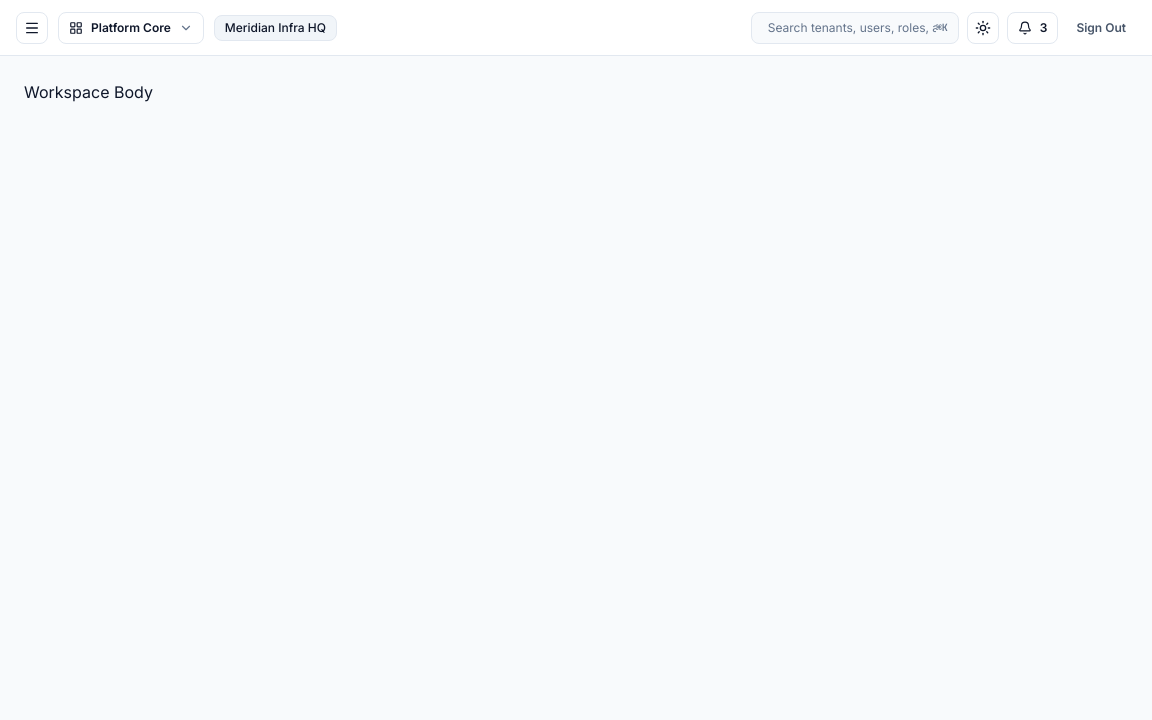
US-01.3 Adaptive Left Navigation & Icon-Only Theme Switcher › renders icon-only theme button and switches to System mode syncing OS dark
Click the button named "change appearance theme".
click(983, 28)  # box [967,12,999,44]
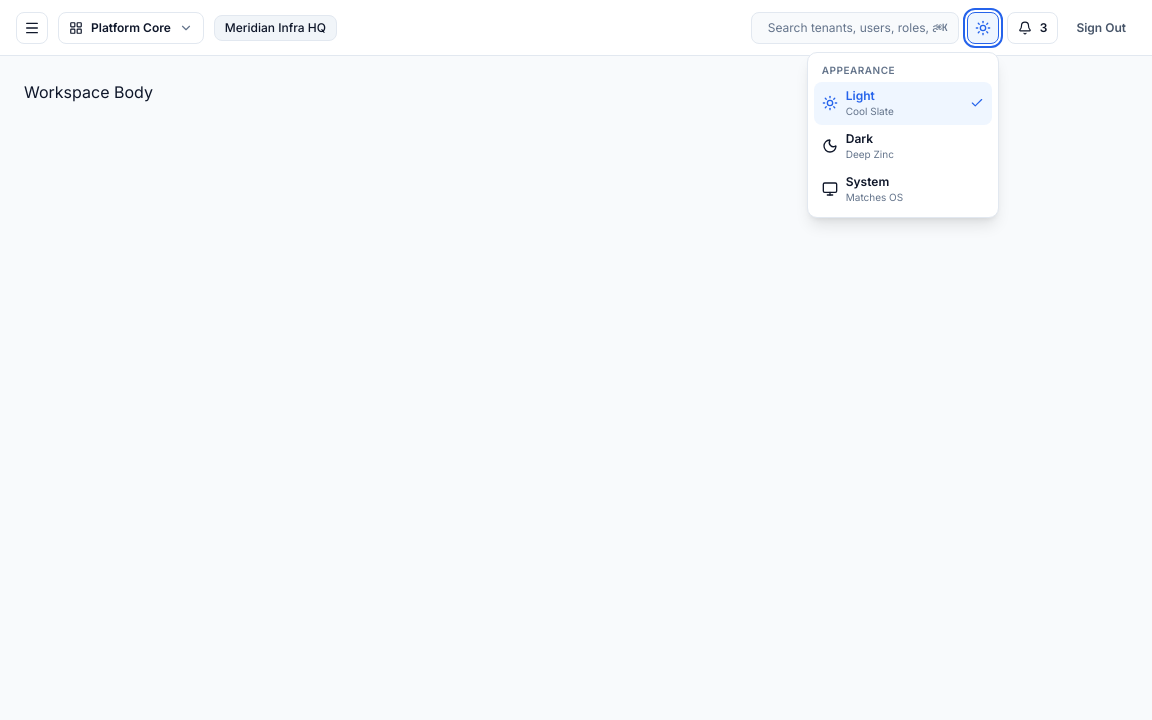
Click the menu item "System Matches OS".
click(903, 189)  # box [814,168,992,210]
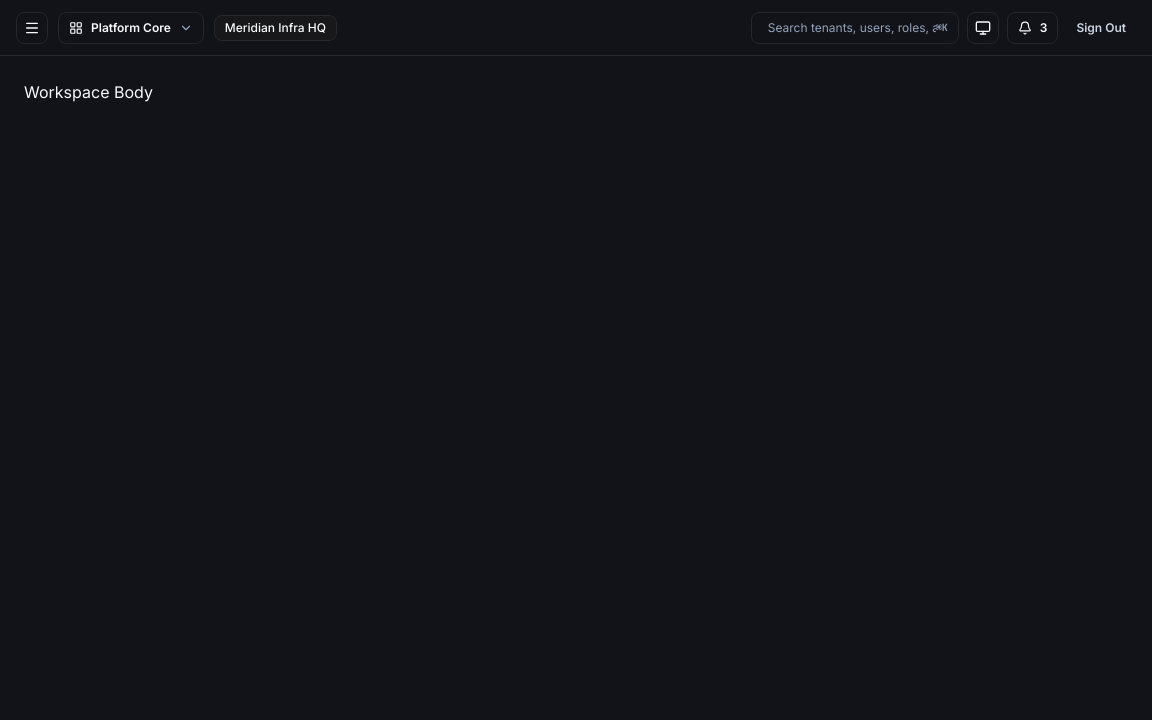
Expected: the button named "change appearance theme" has attribute data-theme-icon="system", [967,12,999,44]
